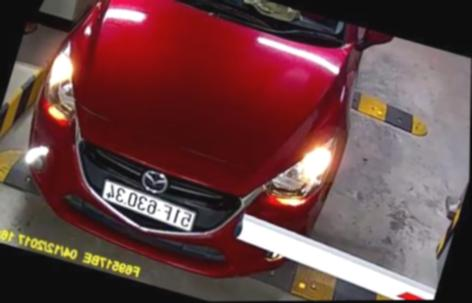License_Plate: (99, 180, 197, 233)
